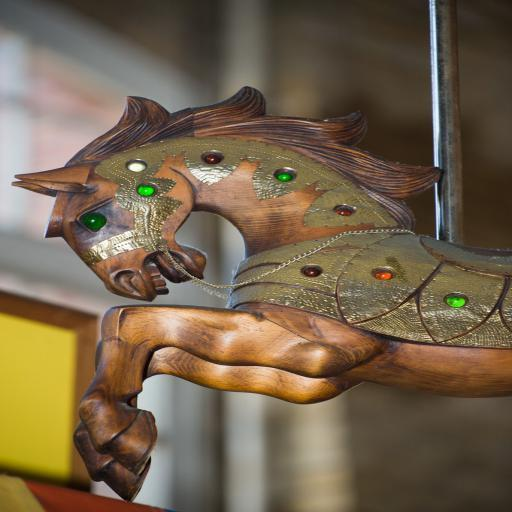horse: (10, 83, 512, 503)
